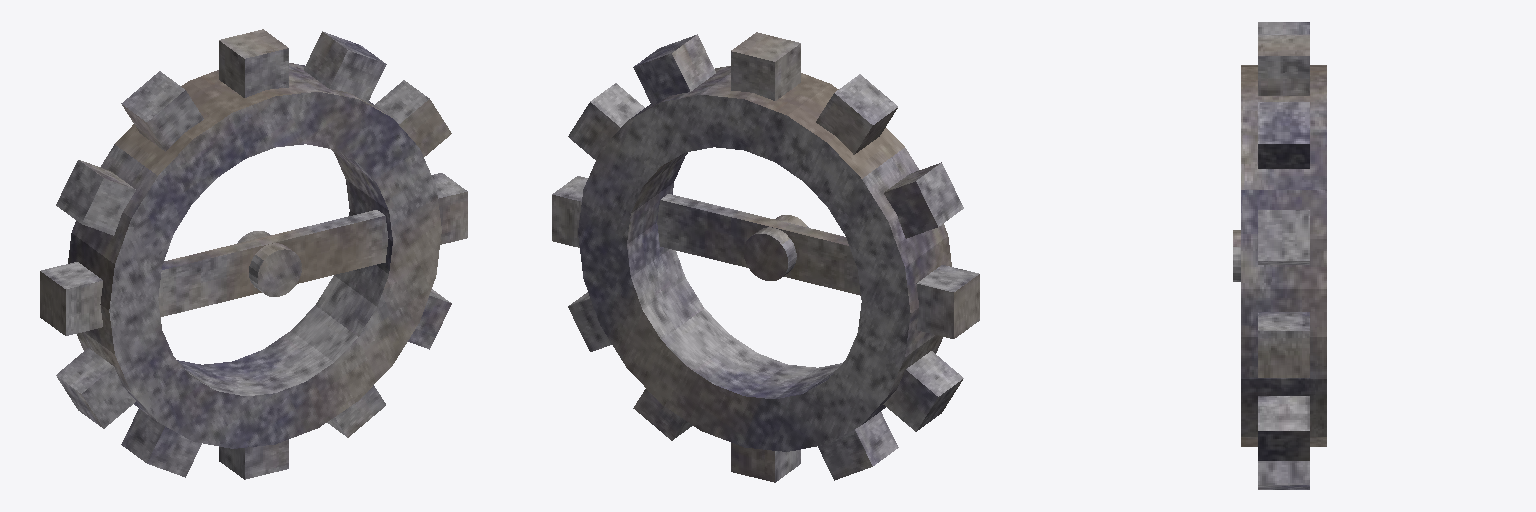
3 renders of one model, left to right at view 1: azimuth 30°, elevation 25°; view 2: azimuth 150°, elevation 25°; view 3: azimuth 270°, elevation 25°, orthographic.
Visible parts, largest first — view 1: Cube.001_Mesh; view 2: Cube.001_Mesh; view 3: Cube.001_Mesh.
Part boxes in pixels (x1,y1,x2,y2): Cube.001_Mesh: (40, 29, 467, 479); Cube.001_Mesh: (552, 32, 979, 482); Cube.001_Mesh: (1233, 22, 1326, 489).
Size of the model in its own units: 1.12 by 1.12 by 0.2301.
1 materials, 1 textured.